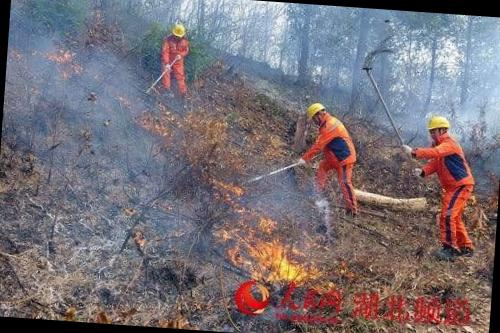Vest: (418, 137, 488, 194), (305, 122, 361, 170), (159, 34, 191, 63)
